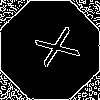X: (25, 25, 80, 74)
